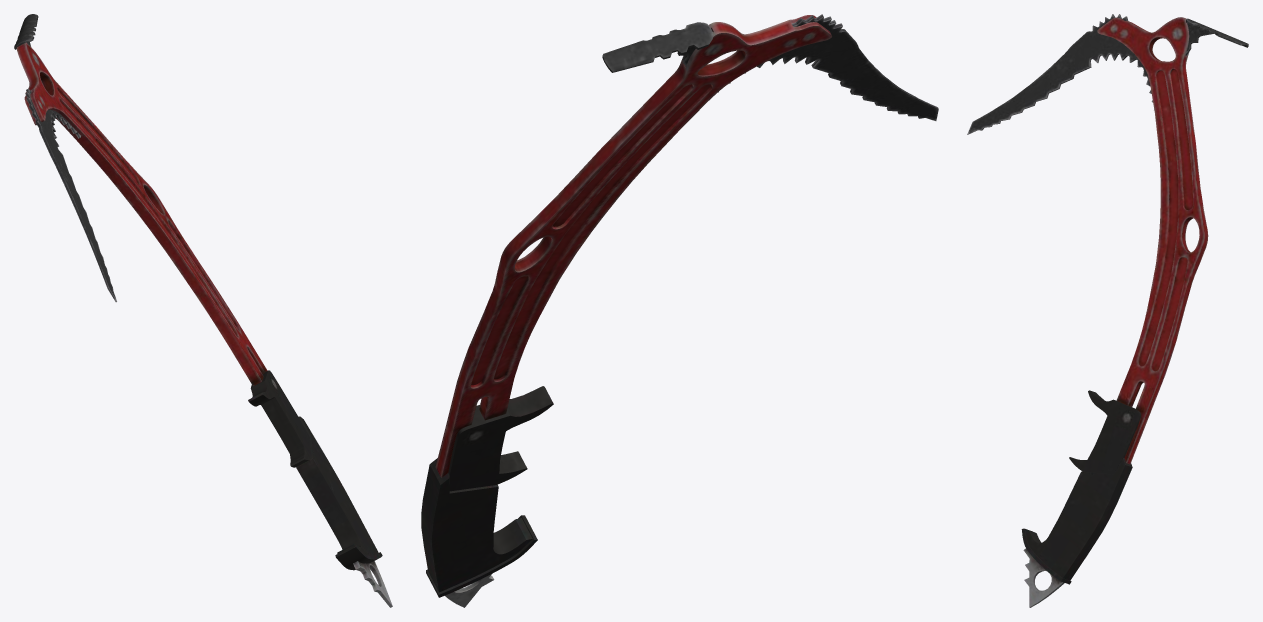
The model's file is ice_axe.glb.
3 renders of one model, left to right at view 1: azimuth 30°, elevation 25°; view 2: azimuth 150°, elevation 25°; view 3: azimuth 270°, elevation 25°, orthographic. The views are drawn at different scales.
Parts seen in each view (by area): view 1: Cube, Cube.005, Cube.001, Cube.006; view 2: Cube, Cube.005, Cube.001, Cube.003; view 3: Cube, Cube.005, Cube.001, Cube.006.
Part boxes in pixels (x1,y1,x2,y2): Cube: (16,42,267,386); Cube.005: (248,370,382,570); Cube.001: (25,88,116,302); Cube.006: (353,561,392,607); Cube: (435,15,831,477); Cube.005: (421,386,553,597); Cube.001: (718,14,938,120); Cube.003: (602,22,713,72); Cube: (1097,17,1208,464); Cube.005: (1021,390,1140,584); Cube.001: (967,14,1154,134); Cube.006: (1023,548,1064,607).
Bounding box in the file's own units: 0.4728 × 0.7797 × 0.4167.
Materials: 2 (2 with a texture image).
